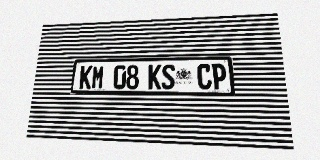0: (113, 65, 127, 89)
8: (126, 65, 139, 89)
C: (197, 64, 212, 89)
K: (79, 65, 93, 89), (148, 64, 161, 89)
M: (91, 65, 105, 89)
P: (211, 63, 227, 89)
S: (162, 64, 175, 89)
